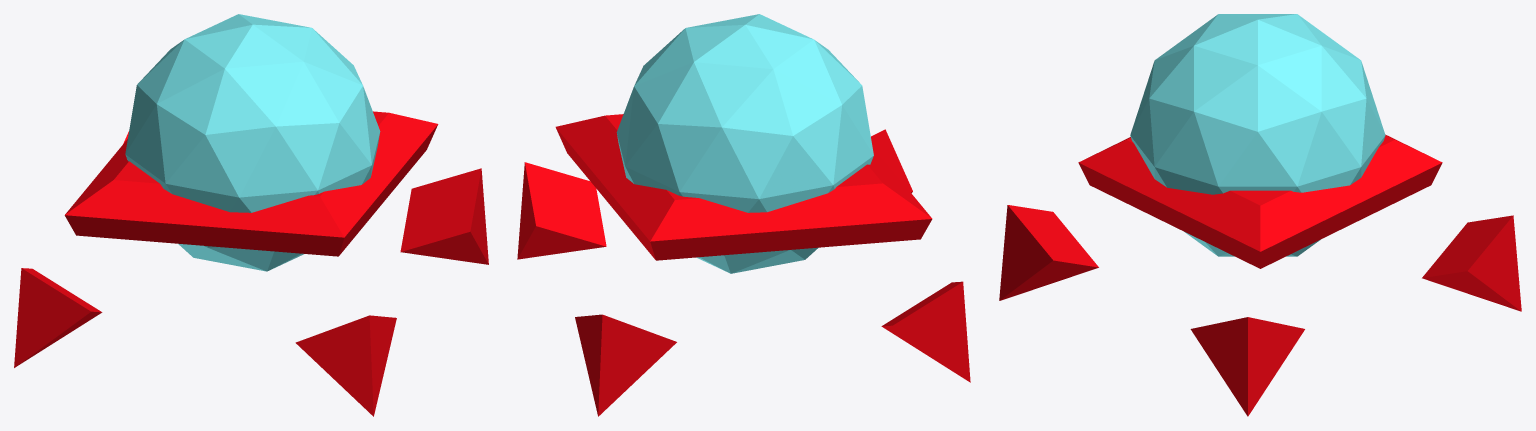
Rendered from WaterHead.FBX.
3 renders of one model, left to right at view 1: azimuth 30°, elevation 25°; view 2: azimuth 150°, elevation 25°; view 3: azimuth 270°, elevation 25°, orthographic. The views are drawn at different scales.
Visible parts, largest first — view 1: WaterHead; view 2: WaterHead; view 3: WaterHead.
Part boxes in pixels (x1,y1,x2,y2): WaterHead: (14, 14, 488, 416); WaterHead: (517, 14, 970, 416); WaterHead: (999, 14, 1521, 416).
Bounding box in the file's own units: 15.43 × 9.35 × 15.43.
